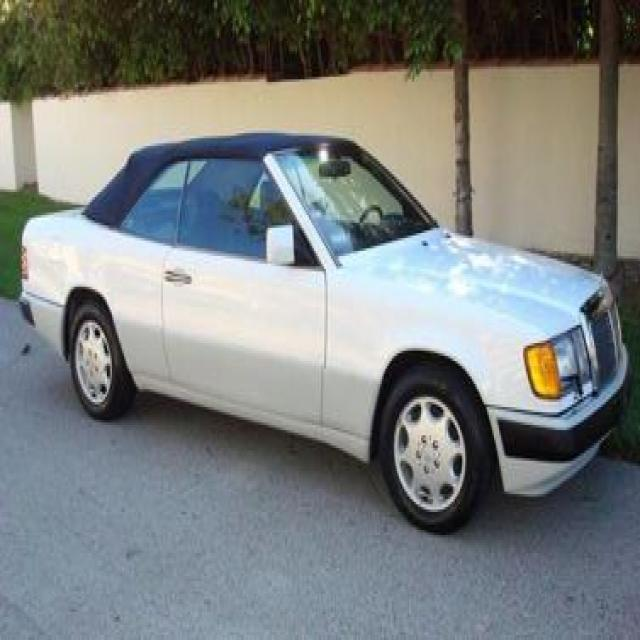Car: (27, 62, 640, 546)
